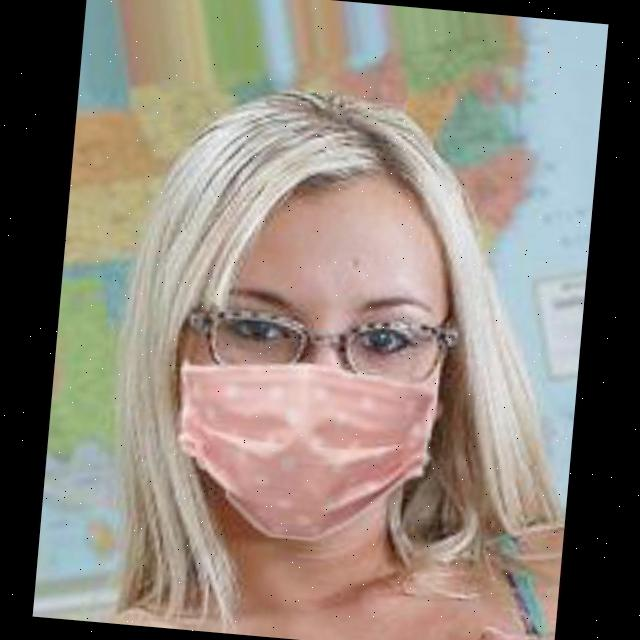suspicion: (108, 136, 511, 536)
